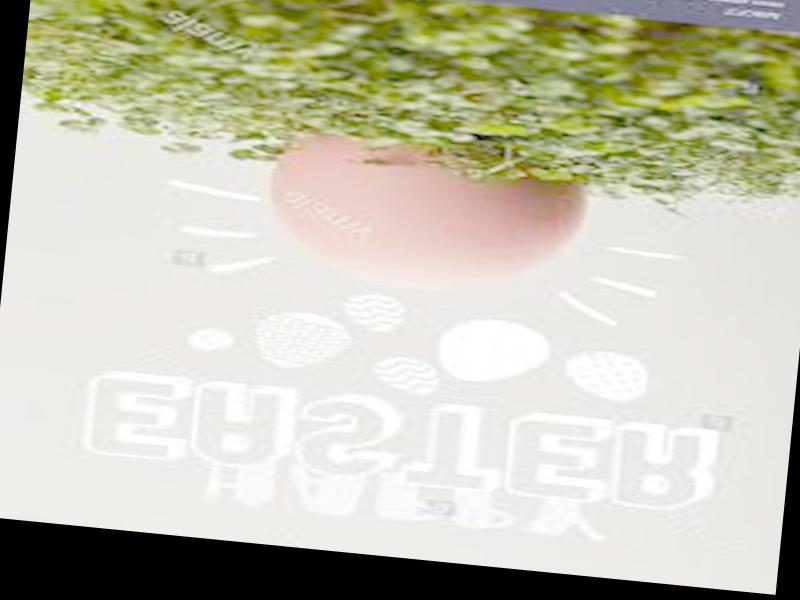Eggs: (267, 128, 596, 302)
